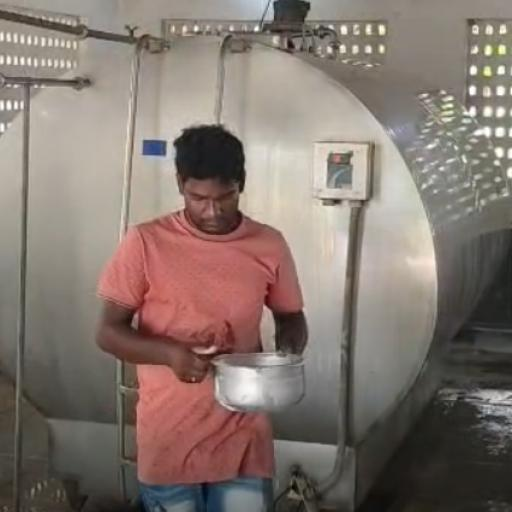silo: (0, 28, 510, 511)
vessel: (208, 351, 307, 413)
